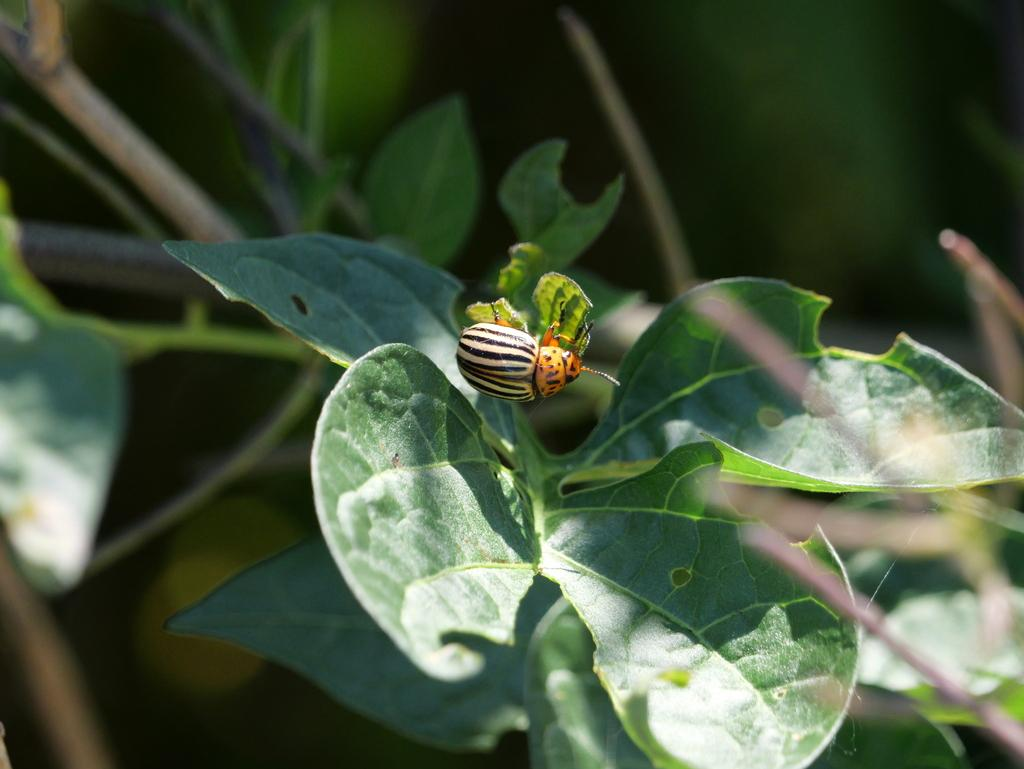potato_beetle: (408, 276, 640, 431)
